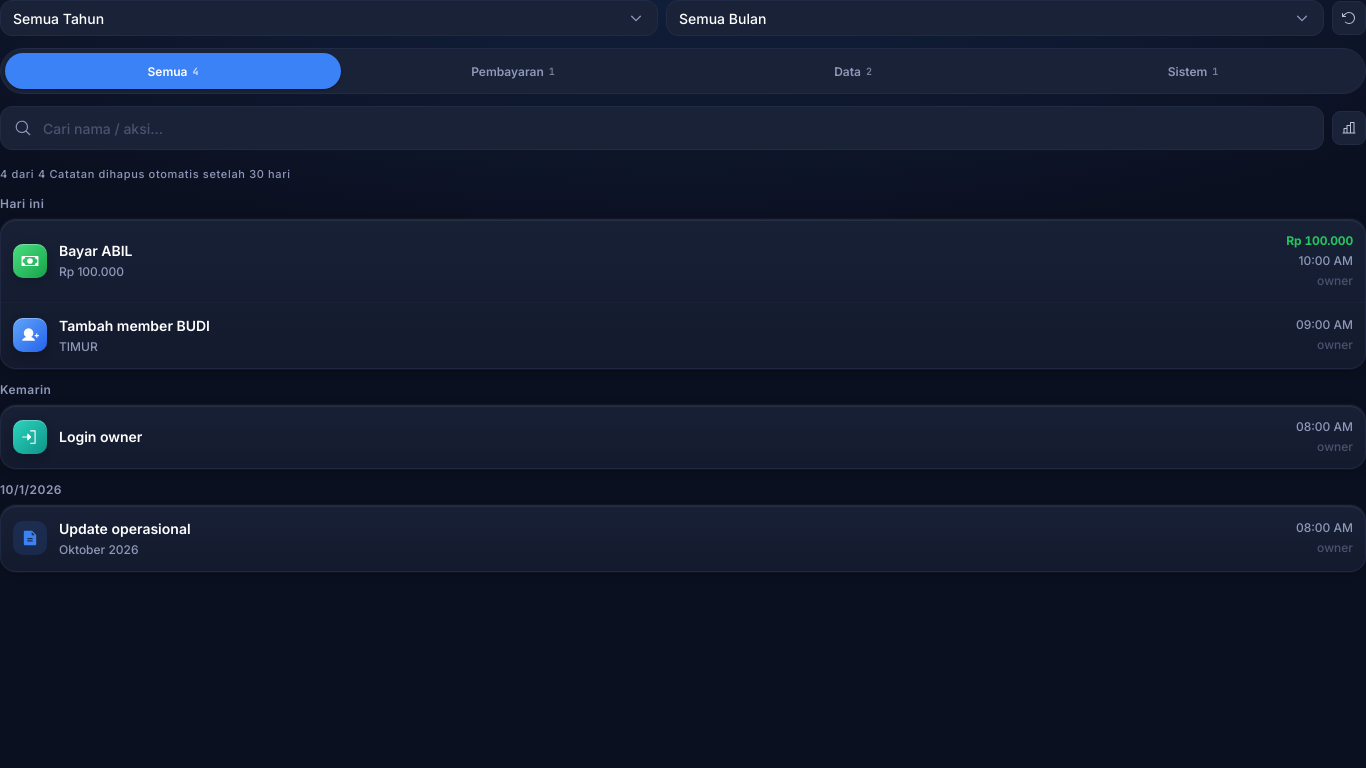
Scenario: Log — A28 Detail dan A29 Statistik › A29: Statistik menampilkan total/jenis dan 3 aktivitas terbaru; ketuk terbaru membuka Detail
Step 1. Click the button named "Statistik" → [1349, 128], box [1332,111,1365,145]
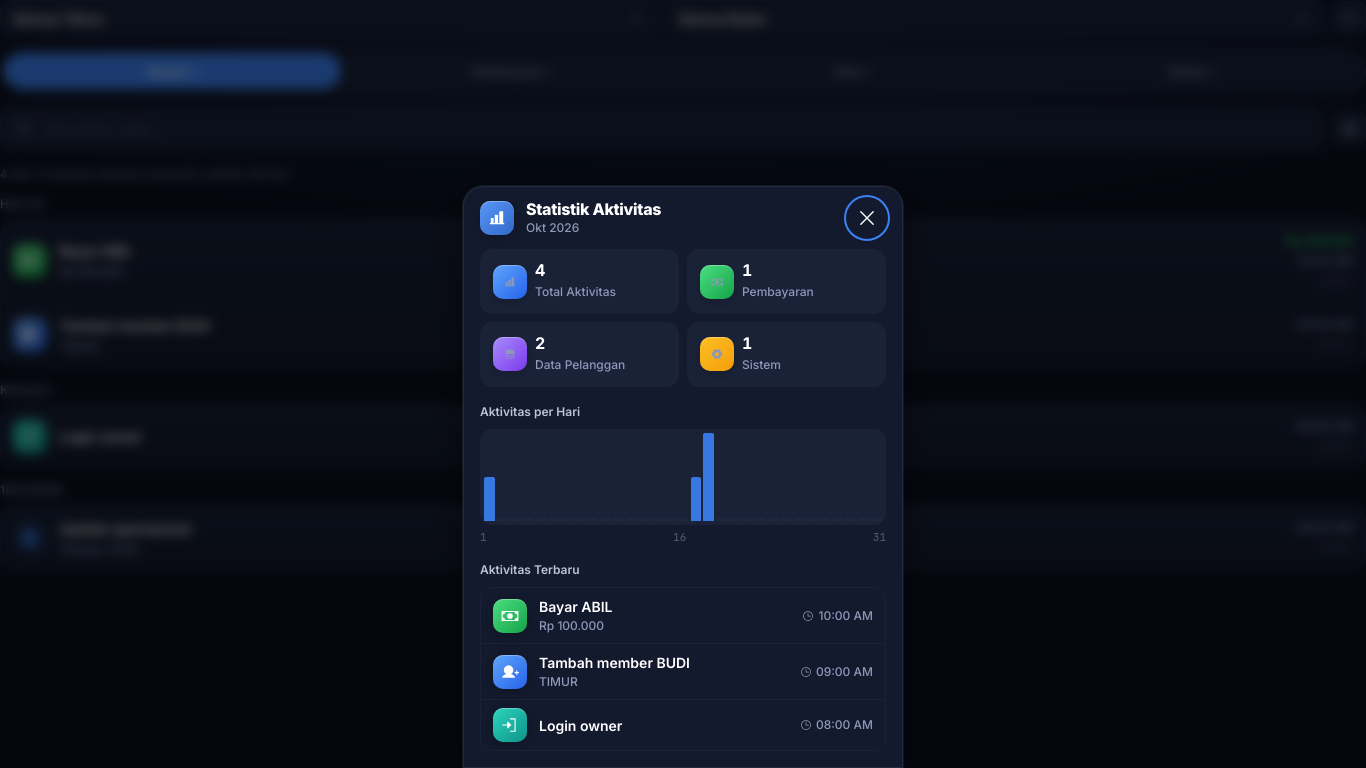
Result: the text "Statistik Aktivitas" is shown at [526,199,661,219]
Result: the number of buttons named "Buka detail aktivitas" is 3
Step 2. Click the button with aria-label "Buka detail aktivitas: Bayar ABIL" → [510, 616], box [481,588,885,644]
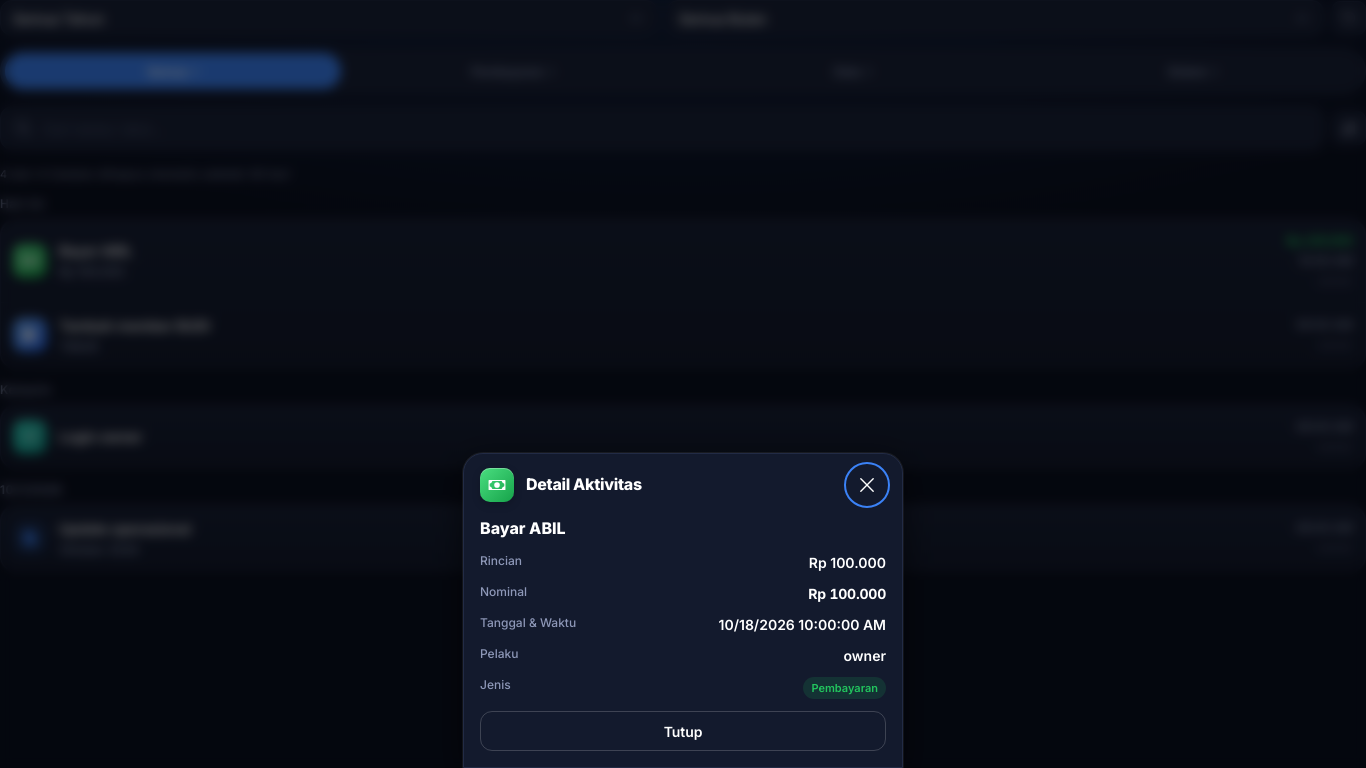
Result: the text "Detail Aktivitas" is shown at [526,474,642,494]
Result: the text "Statistik Aktivitas" is gone
